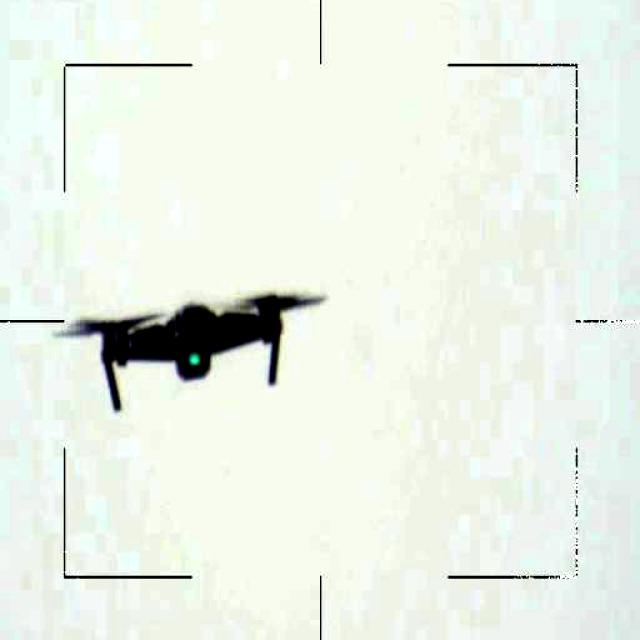bird: (52, 274, 325, 412)
